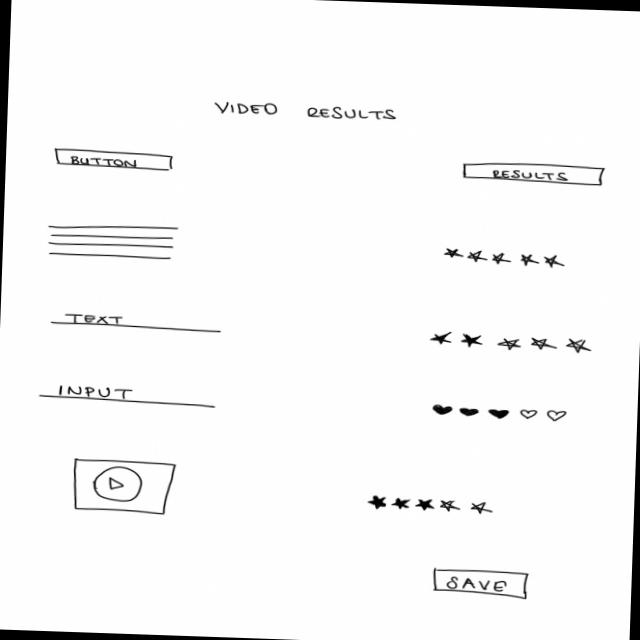button: (460, 162, 607, 189), (431, 568, 533, 602), (54, 148, 175, 174)
input: (36, 383, 219, 412), (49, 309, 226, 336)
label: (212, 99, 399, 124)
text: (44, 220, 182, 264)
